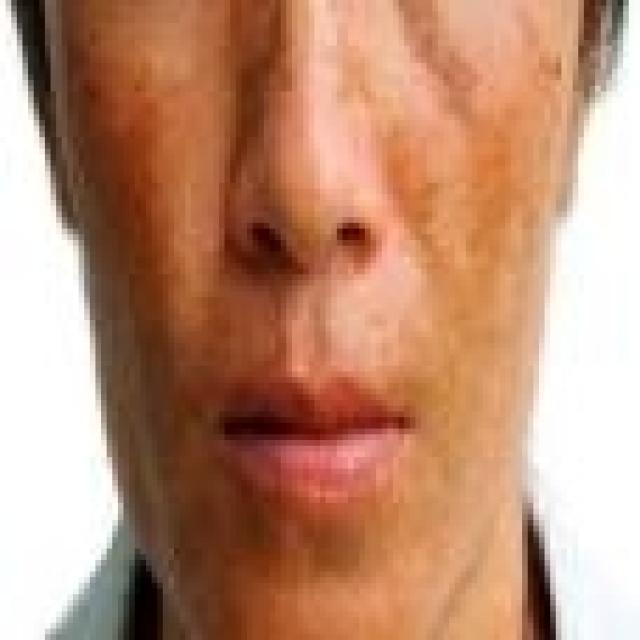Melasma: (387, 48, 566, 444), (59, 12, 202, 479)
